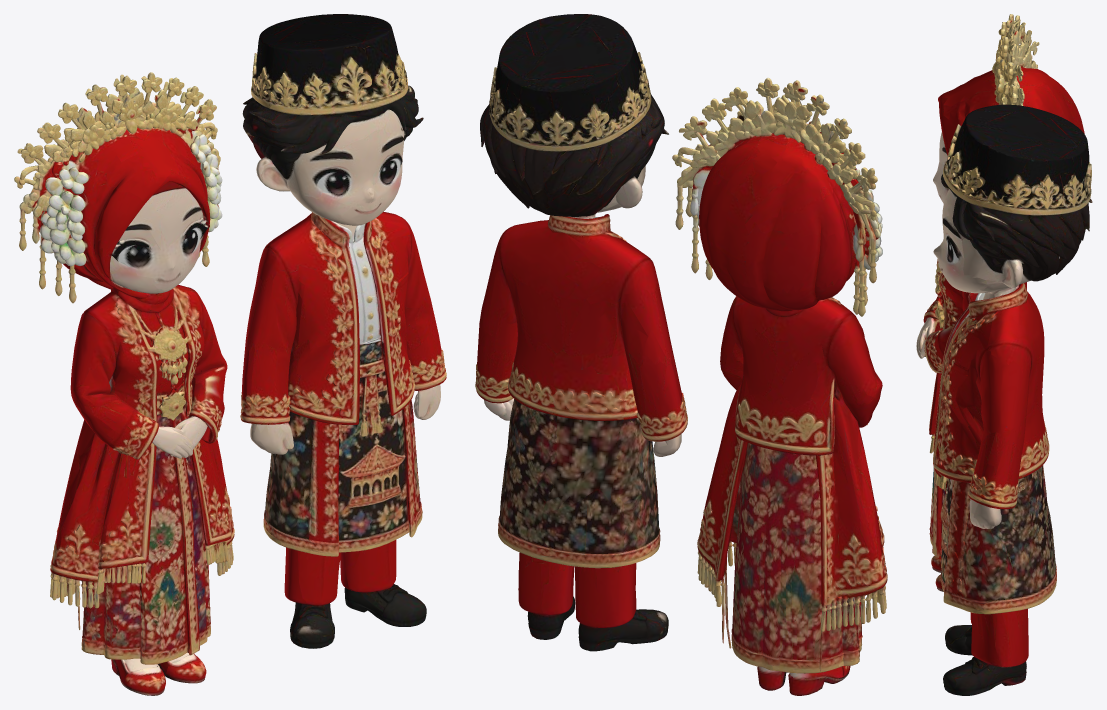
Rendered from couple.glb.
3 renders of one model, left to right at view 1: azimuth 30°, elevation 25°; view 2: azimuth 150°, elevation 25°; view 3: azimuth 270°, elevation 25°, orthographic. The views are drawn at different scales.
Visible parts, largest first — view 1: output_unwrapped; view 2: output_unwrapped; view 3: output_unwrapped.
Part boxes in pixels (bbox=[...]): output_unwrapped: bbox=[14, 14, 446, 695]; output_unwrapped: bbox=[475, 14, 887, 695]; output_unwrapped: bbox=[916, 14, 1092, 695].
Size of the model in its own units: 1.37 by 1.9 by 0.5532.
Materials: 1 (1 with a texture image).
